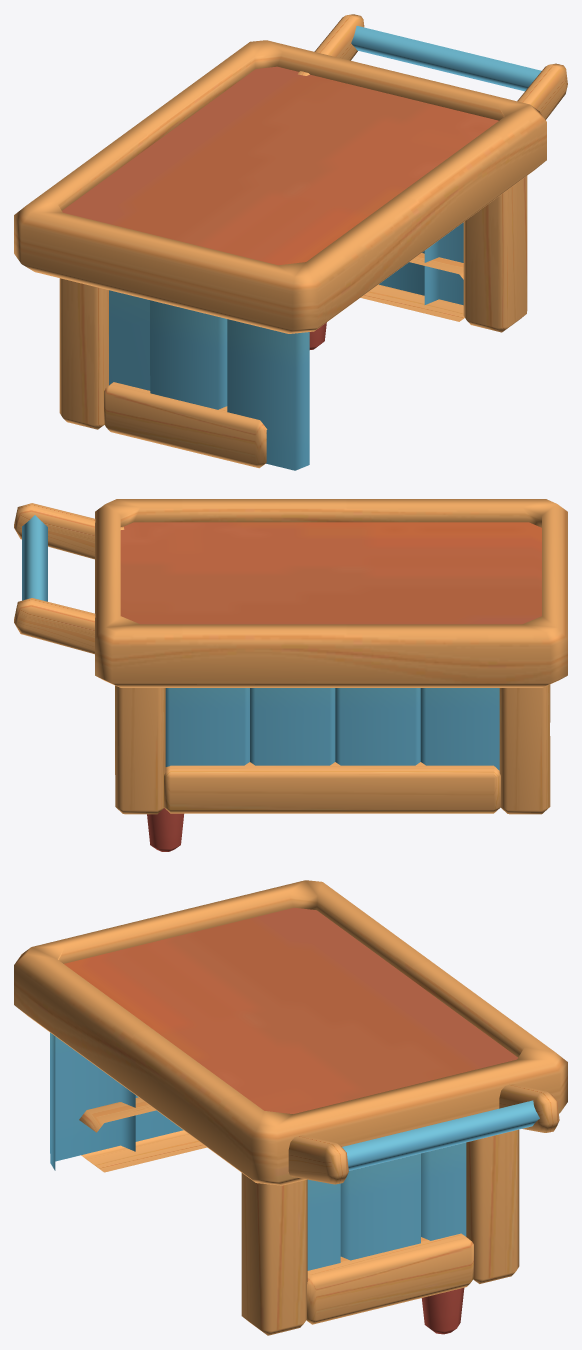
Rendered from Cart.fbx.
3 renders of one model, top to bottom at view 1: azimuth 30°, elevation 25°; view 2: azimuth 150°, elevation 25°; view 3: azimuth 270°, elevation 25°, orthographic. The views are drawn at different scales.
Parts seen in each view (by area): view 1: Cart; view 2: Cart; view 3: Cart.
Part boxes in pixels (x1,y1,x2,y2): Cart: (14, 14, 567, 470); Cart: (14, 499, 567, 851); Cart: (14, 880, 567, 1335).
Size of the model in its own units: 9.8 by 4.55 by 8.06.
1 material, 1 textured.
